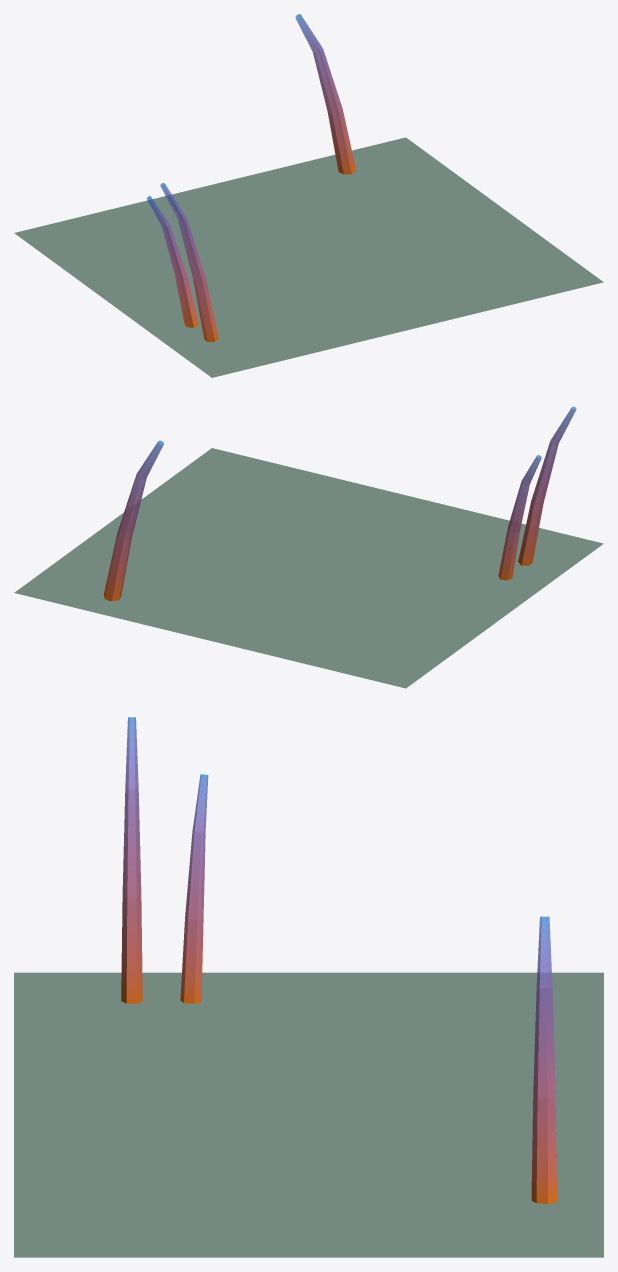
3 views of the same model, one above another, from view 1: azimuth 30°, elevation 25°; view 2: azimuth 150°, elevation 25°; view 3: azimuth 270°, elevation 25° (orthographic). The views are drawn at different scales.
Parts seen in each view (by area): view 1: groom anchor, guided strands; view 2: groom anchor, guided strands; view 3: groom anchor, guided strands.
Boxes of the visible parts, left/top/right/bottom form: groom anchor: left=14, top=137, right=603, bottom=377; guided strands: left=146, top=14, right=355, bottom=341; groom anchor: left=14, top=448, right=603, bottom=688; guided strands: left=103, top=406, right=576, bottom=601; groom anchor: left=14, top=972, right=603, bottom=1257; guided strands: left=121, top=717, right=556, bottom=1203.
Bounding box in the file's own units: 1.65 × 0.6616 × 1.4.
